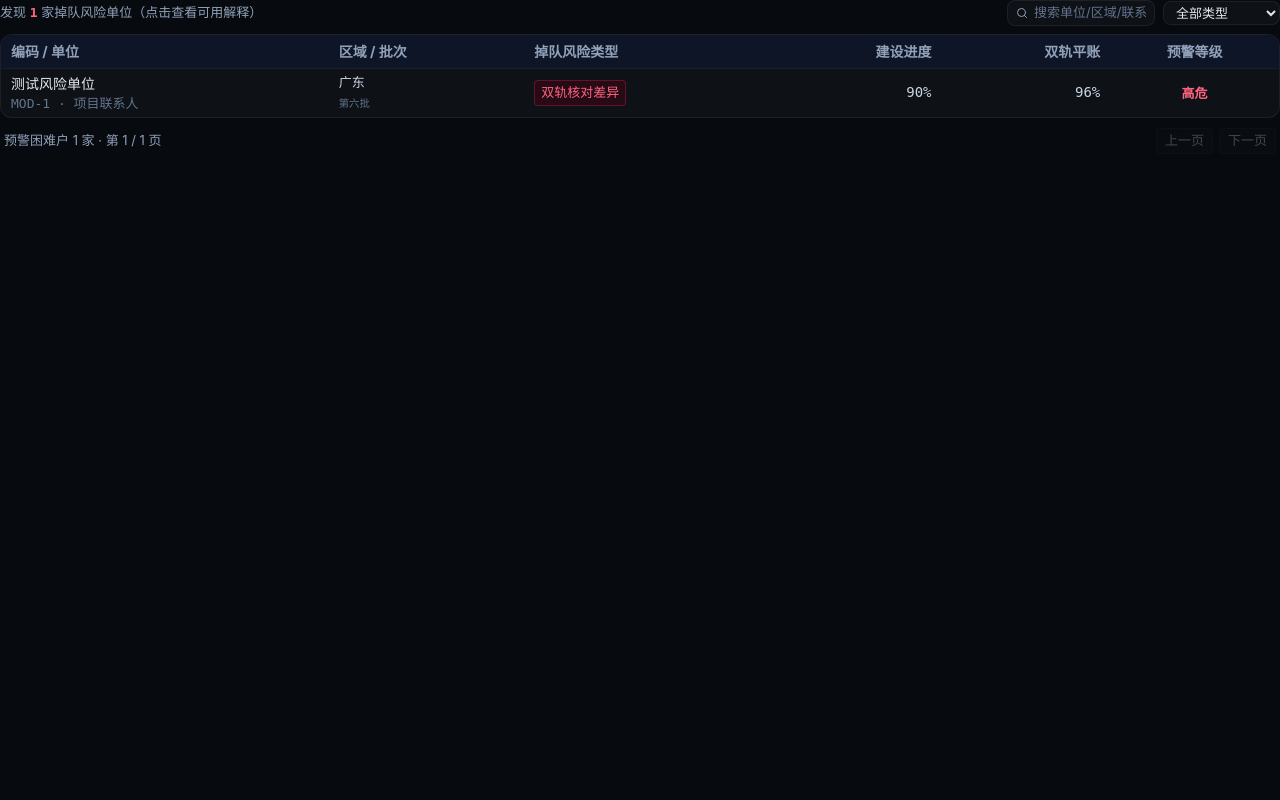
it: AtRiskUnitTable explanation provenance › shows an explicit unavailable state instead of fabricating fixed weights
The width and height of the screenshot is (1280, 800).
Click the row "测试风险单位 MOD-1 · 项目联系人 广东 第六批 双轨核对差异 90% 96% 高危". click: (53, 83)
box: [1, 68, 1279, 117]
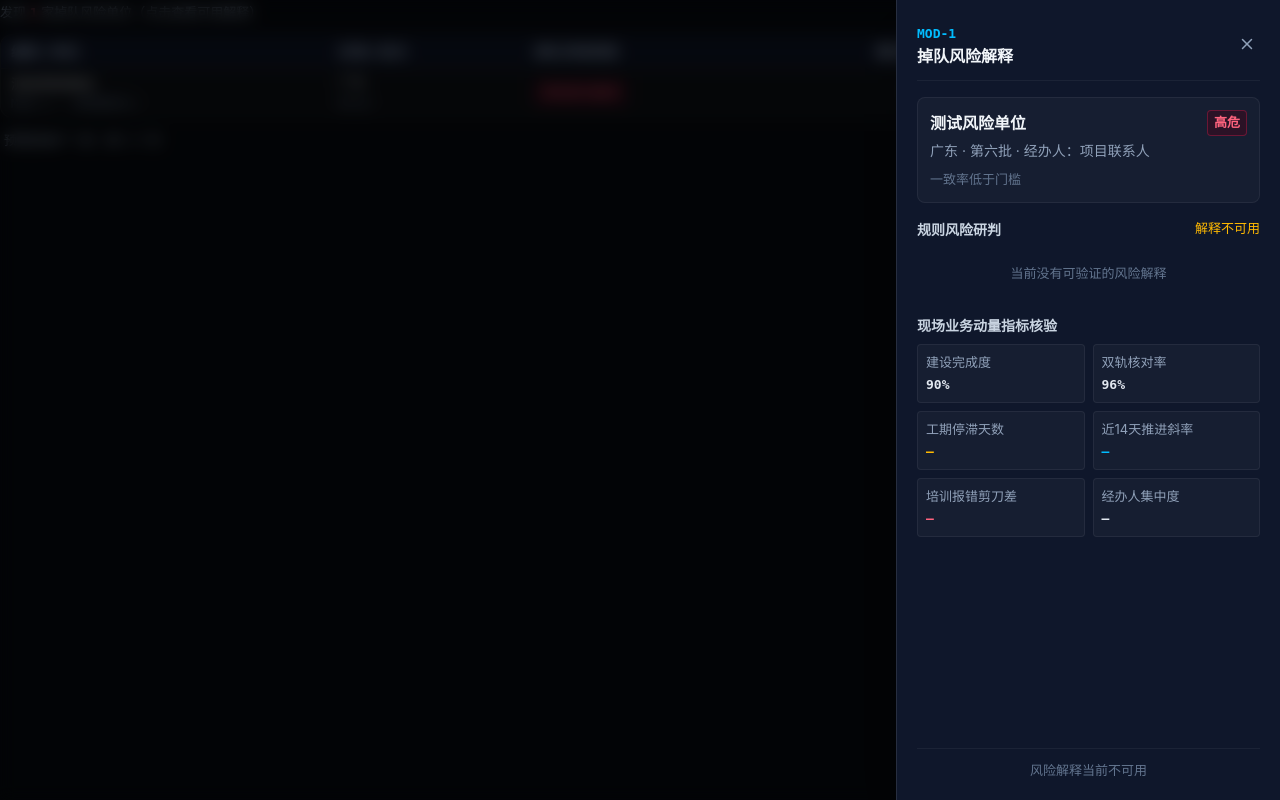
Result: the text "解释不可用" is shown at [1195, 219, 1260, 239]
Result: the text "当前没有可验证的风险解释" is shown at [1010, 265, 1166, 281]
